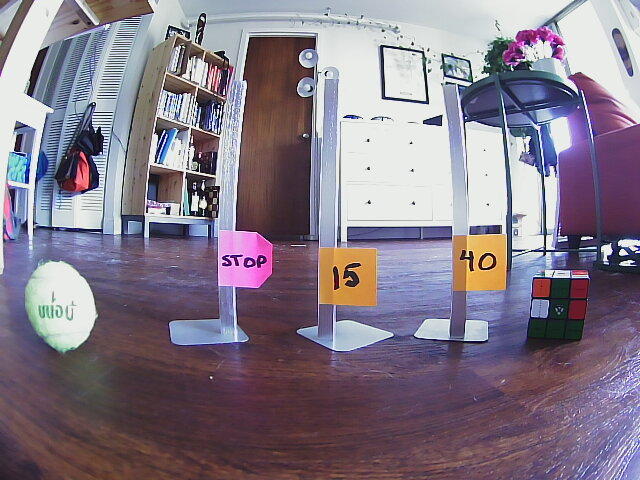15: (317, 249, 379, 307)
40: (451, 234, 509, 293)
ball: (23, 261, 101, 351)
cube: (525, 267, 590, 342)
stop: (216, 228, 274, 288)
